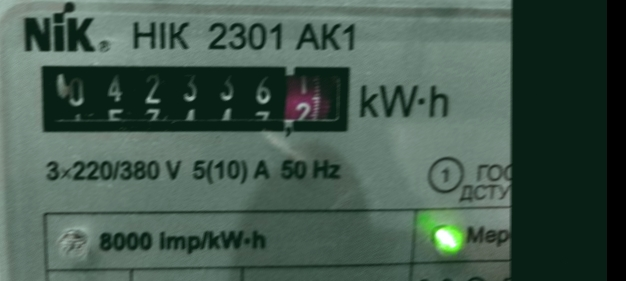0: (65, 75, 84, 108)
1: (295, 70, 307, 96)
2: (141, 71, 162, 105), (292, 101, 309, 122)
3: (178, 70, 196, 103), (217, 71, 234, 103)
4: (105, 71, 122, 103)
6: (252, 73, 272, 107)
screen: (27, 52, 362, 144)
